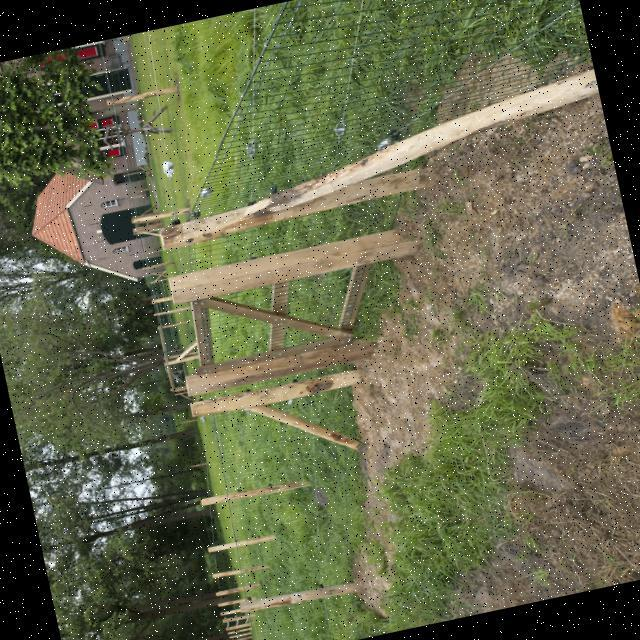fence line: (168, 0, 579, 202), (194, 205, 396, 375), (215, 388, 370, 596), (254, 590, 369, 639)
